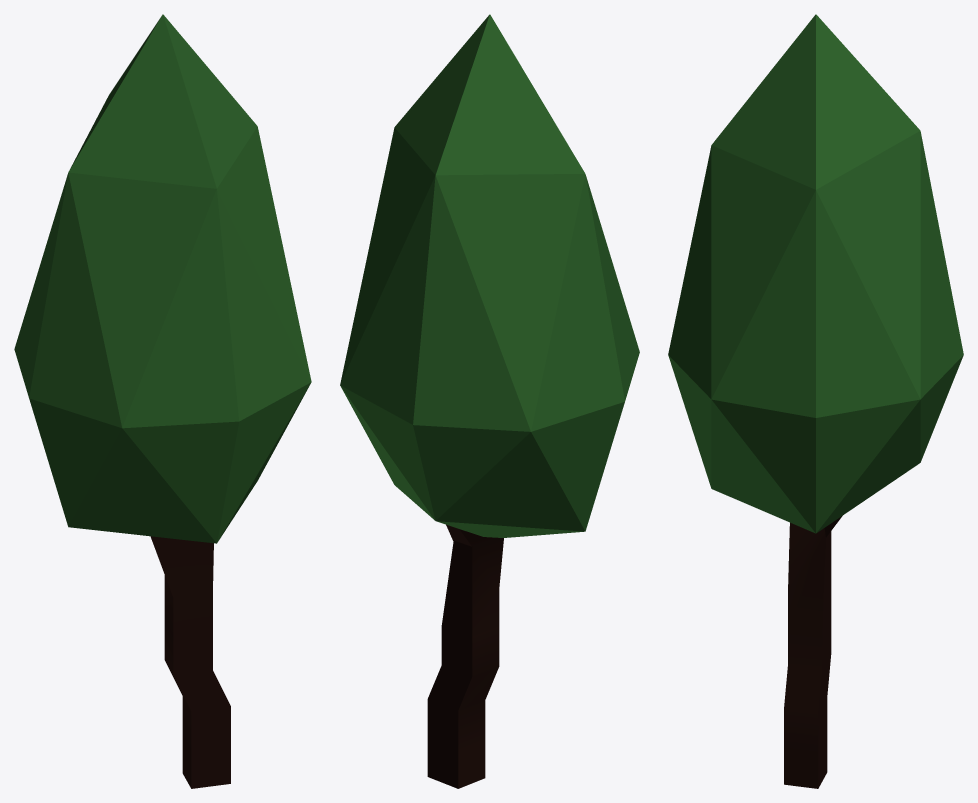
The model's file is Tree01.FBX.
3 renders of one model, left to right at view 1: azimuth 30°, elevation 25°; view 2: azimuth 150°, elevation 25°; view 3: azimuth 270°, elevation 25°, orthographic. The views are drawn at different scales.
Visible parts, largest first — view 1: Tree 01; view 2: Tree 01; view 3: Tree 01.
Part boxes in pixels (x1,y1,x2,y2): Tree 01: (14,14,311,788); Tree 01: (340,14,639,788); Tree 01: (668,14,963,788).
Size of the model in its own units: 53.78 by 148 by 53.08.
